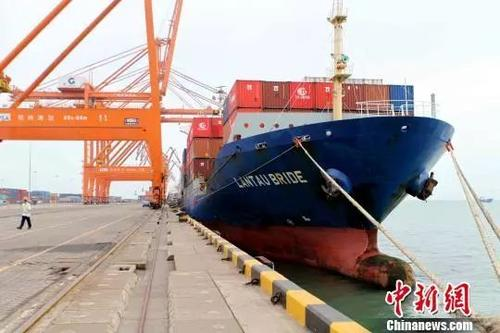Cargoship: (157, 1, 459, 285)
